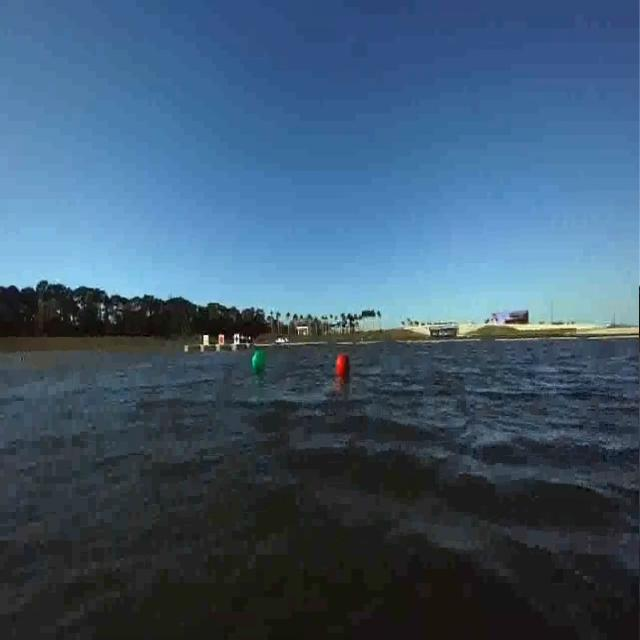green-buoy: (252, 344, 271, 382)
red-buoy: (336, 352, 351, 386)
